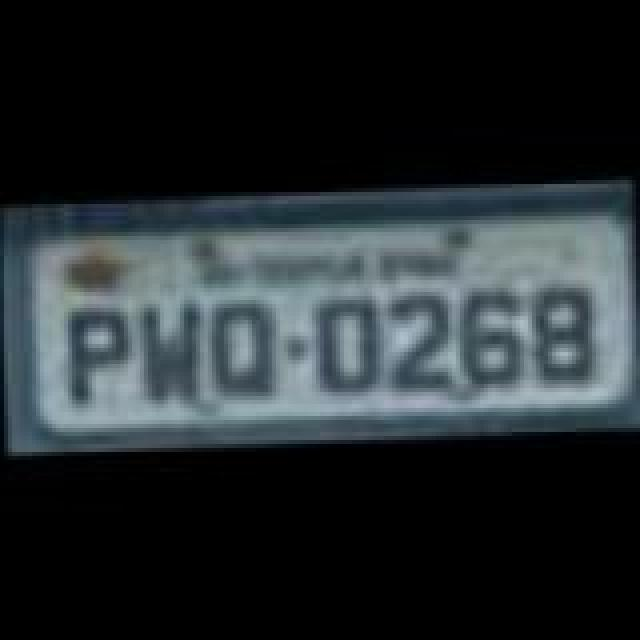2: (380, 294, 456, 394)
6: (452, 290, 528, 390)
8: (528, 282, 596, 390)
O: (314, 298, 378, 394)
P: (66, 308, 130, 404)
Q: (208, 304, 276, 400)
W: (136, 304, 204, 404)
